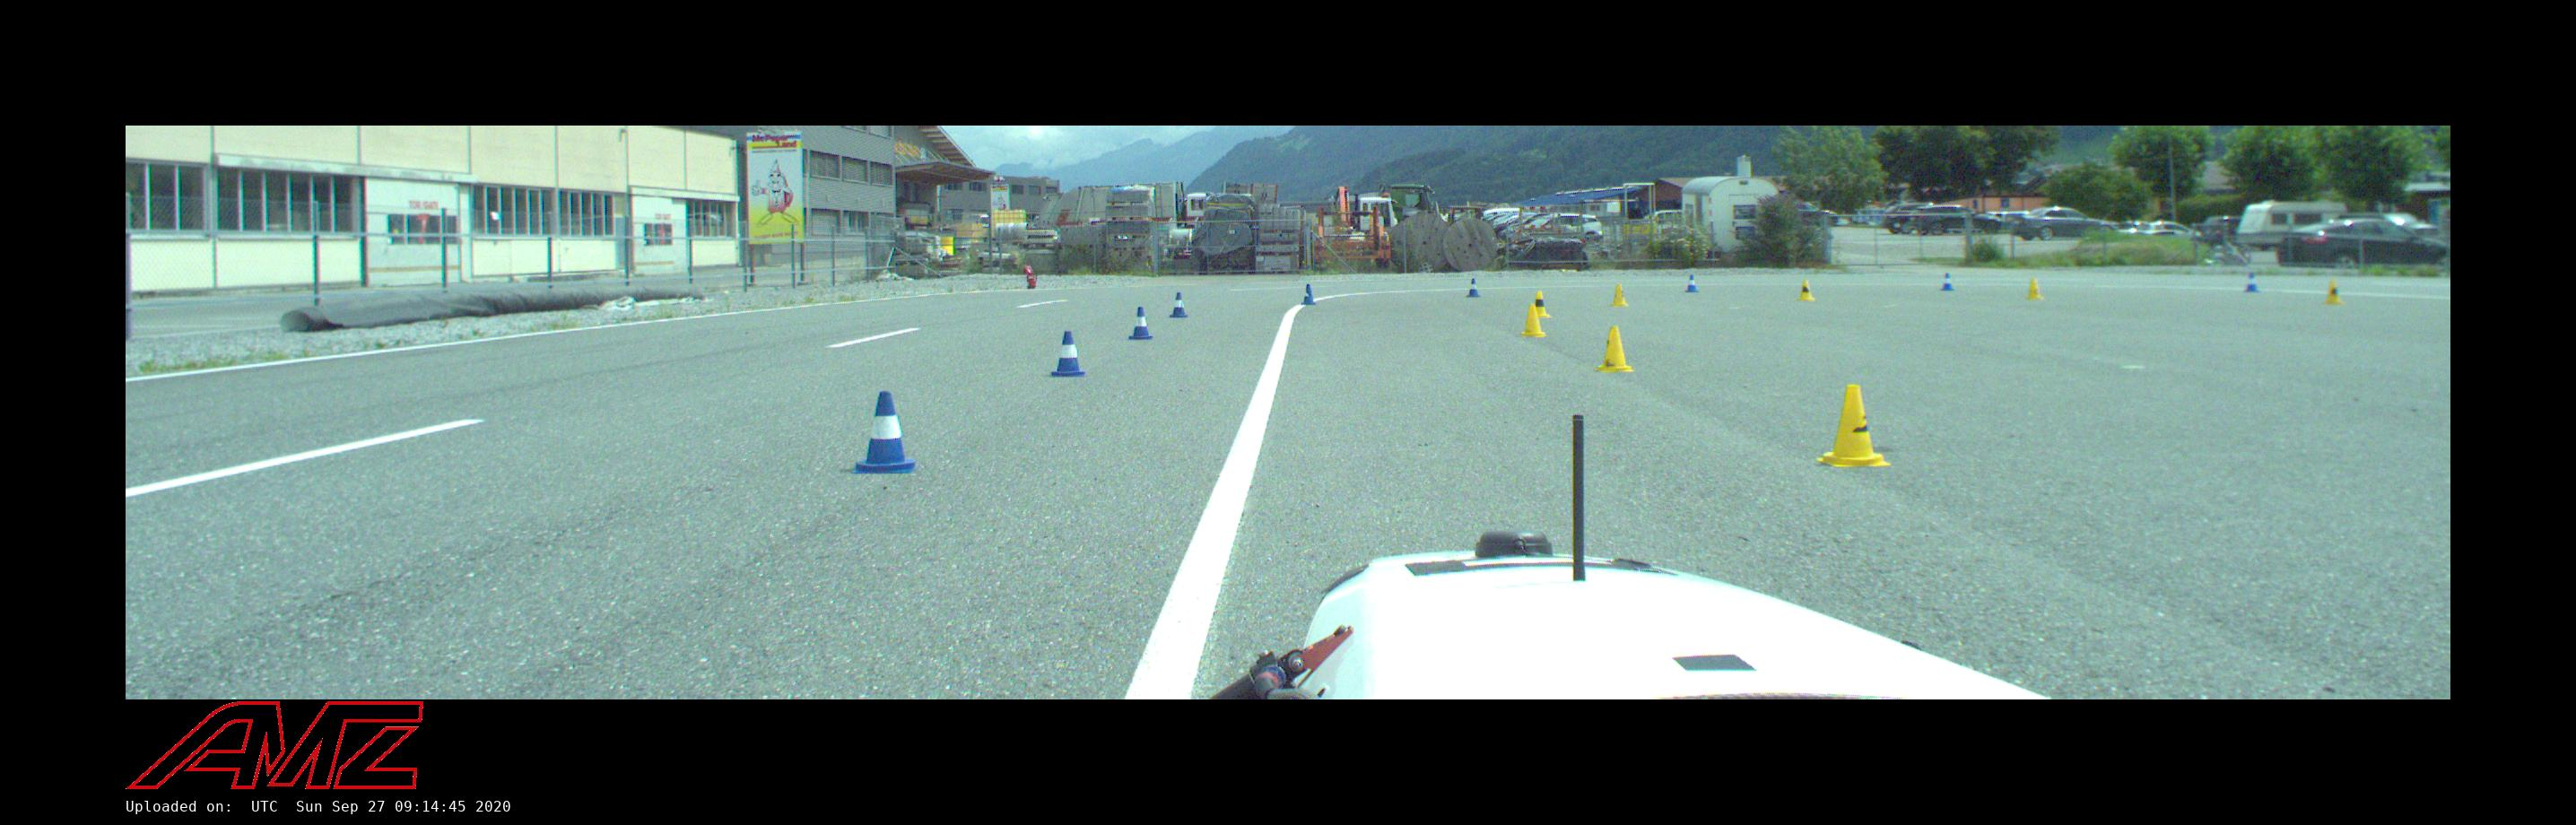blue_cone: (851, 393, 922, 475), (1050, 330, 1083, 378), (1127, 307, 1155, 340), (1166, 293, 1188, 319), (1299, 283, 1319, 306), (1462, 278, 1482, 297), (1939, 273, 1957, 291), (2242, 271, 2259, 291), (1684, 274, 1700, 293)
yellow_cone: (1819, 385, 1891, 472), (1595, 325, 1635, 373), (1518, 301, 1546, 337), (1610, 284, 1631, 307), (2325, 281, 2344, 306), (1538, 289, 1553, 317), (2026, 279, 2044, 301), (1799, 279, 1815, 301)
